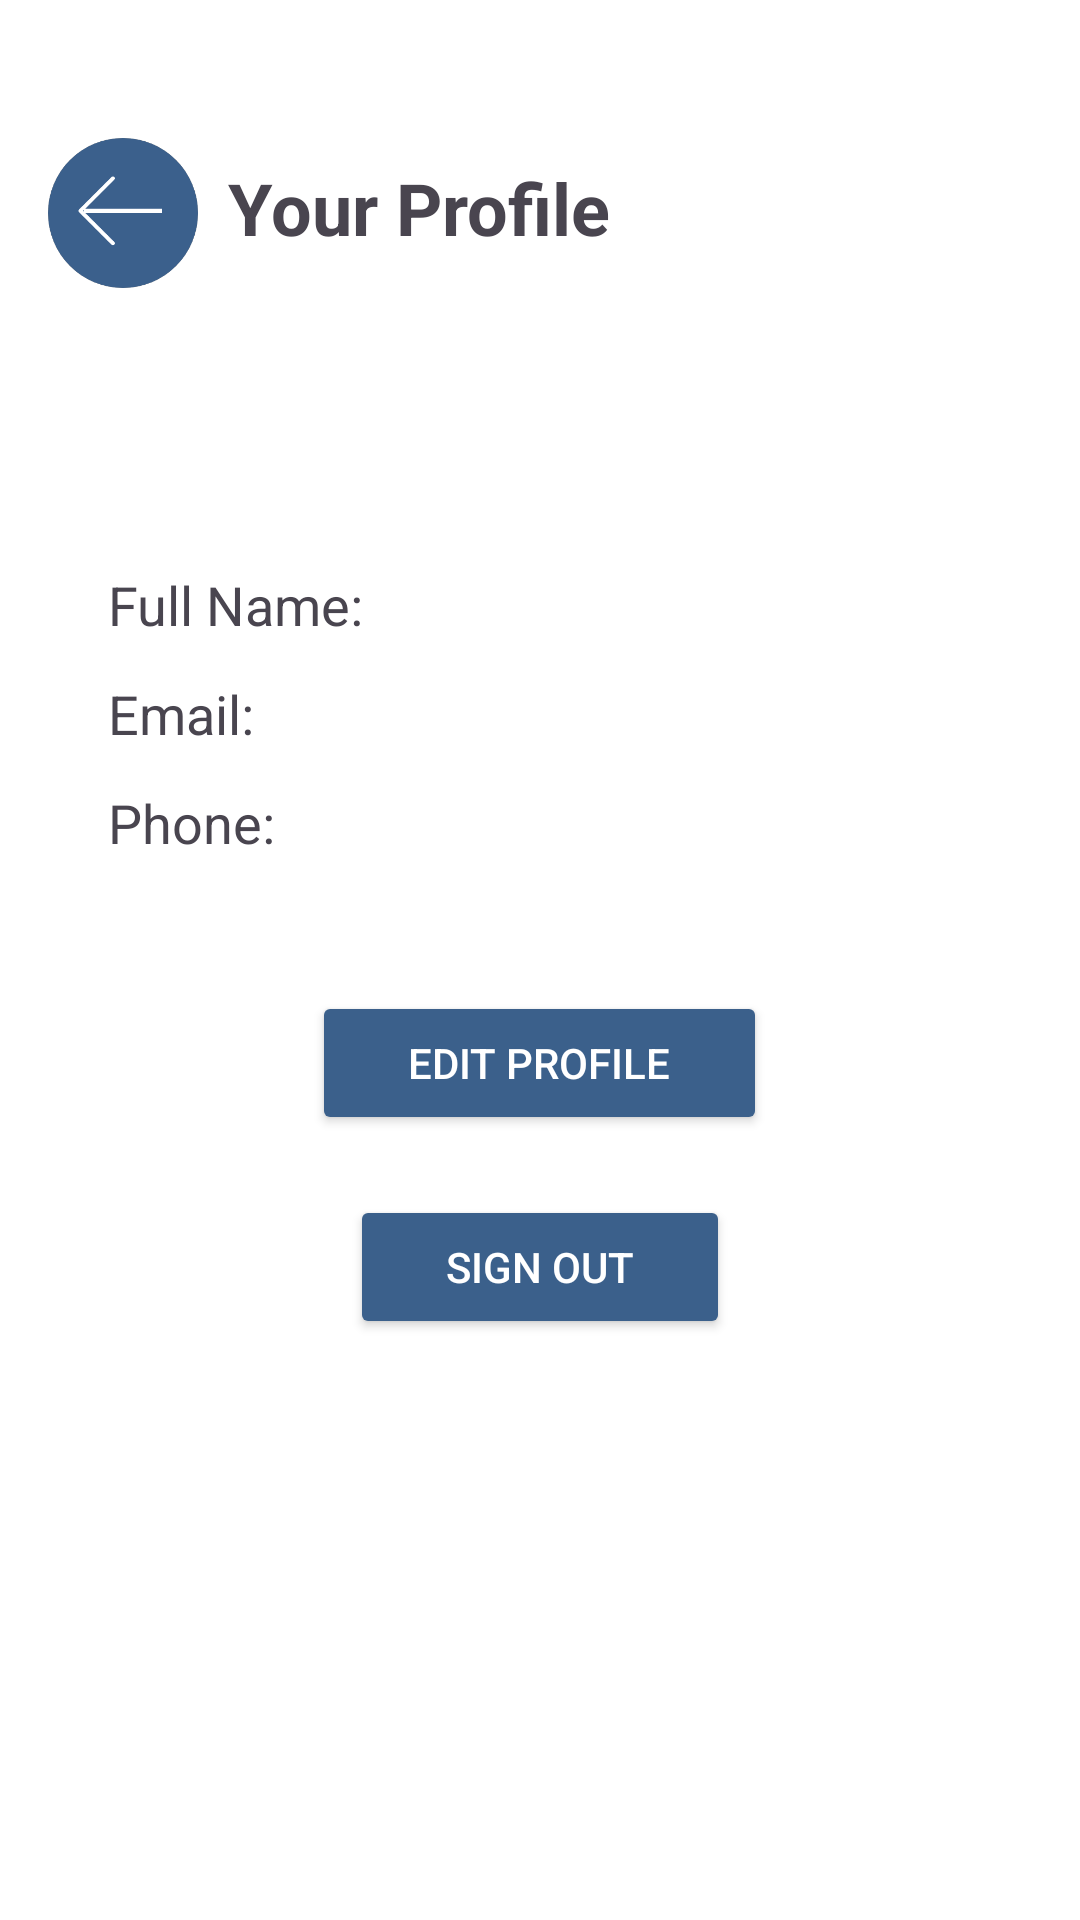

Point at icon controls on the screen. Image size 1080 x 1920, points as point (x, y).
arrow: point (123, 213)
